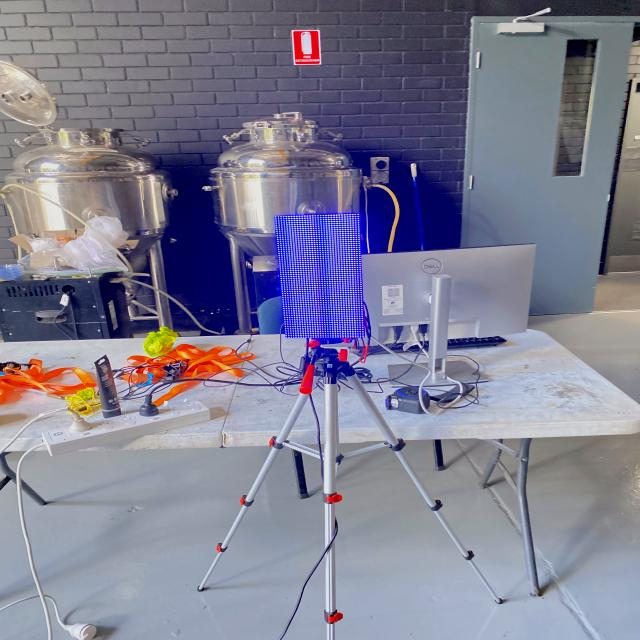matrix: (261, 208, 379, 347)
